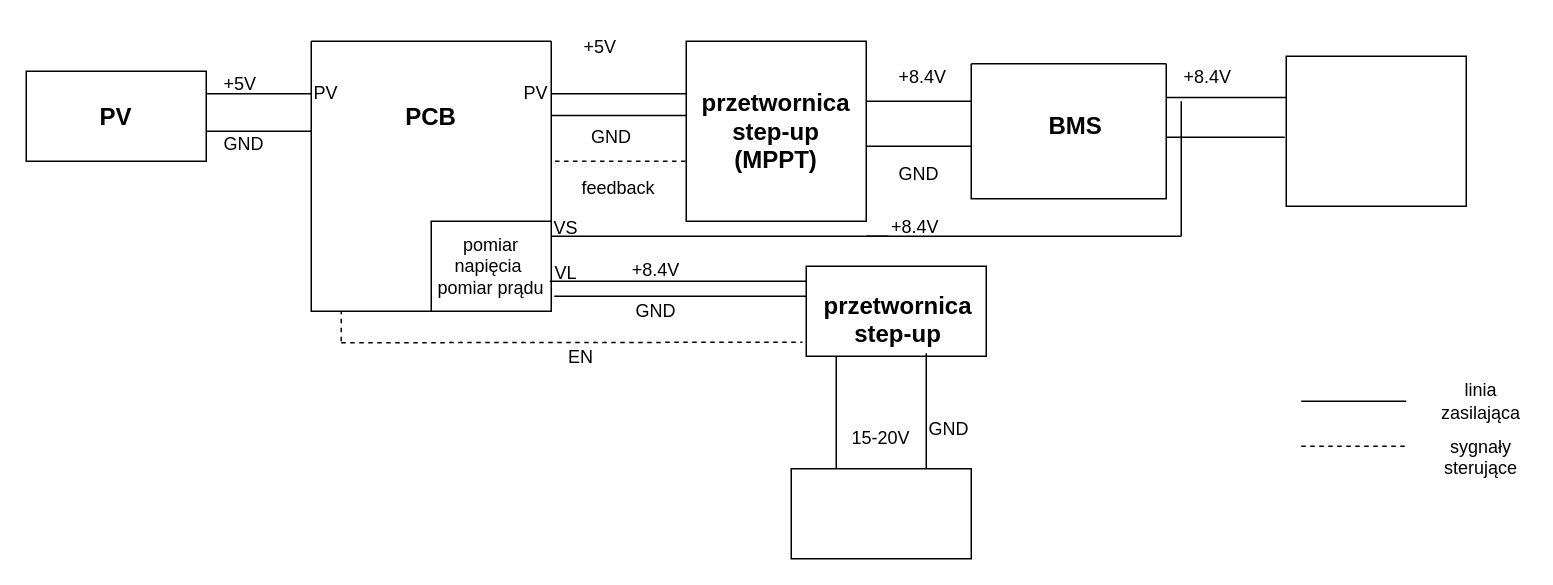
This 1553x585 diagram has some shape labels left out. The box of each missing label's shape, as (x1, y1, x2, y2) in pixels:
Elektrozawór: (790, 467, 971, 559)
Li-Ion (2S): (1285, 55, 1466, 206)
